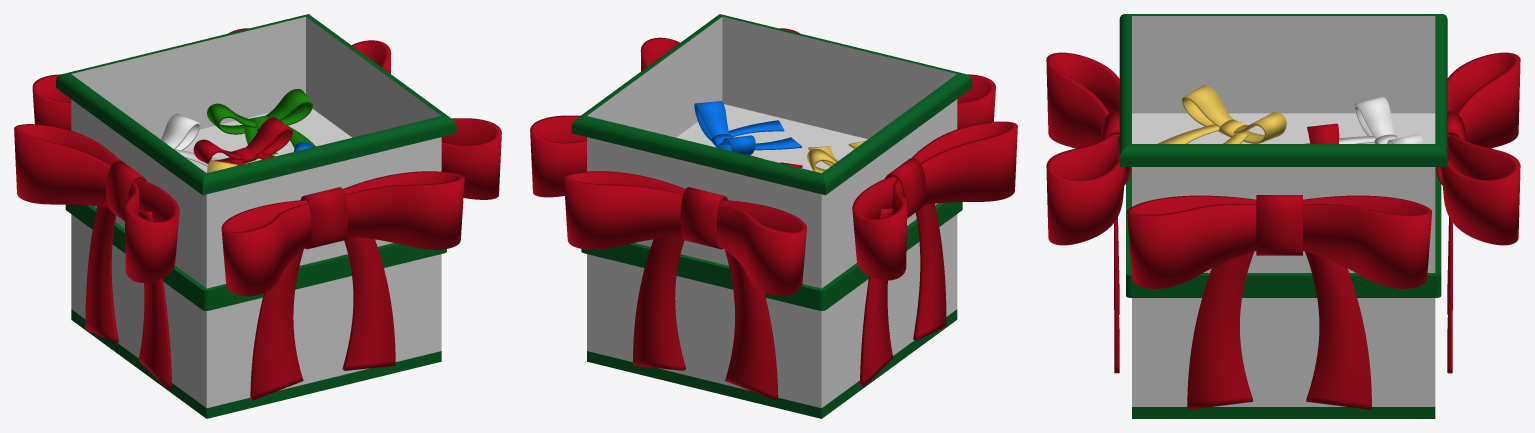
File: BowBox.fbx
3 renders of one model, left to right at view 1: azimuth 30°, elevation 25°; view 2: azimuth 150°, elevation 25°; view 3: azimuth 270°, elevation 25°, orthographic. The views are drawn at different scales.
Visible parts, largest first — view 1: Bow Box, Bow.003, Bow, Bow.001, Bow.002, Bow.006, Bow.004, Bow.005; view 2: Bow Box, Bow.004, Bow, Bow.001, Bow.007, Bow.003, Bow.008; view 3: Bow Box, Bow.001, Bow.003, Bow.004, Bow.008, Bow.005, Bow.006.
Boxes of the visible parts, x1,y1,x2,y2 form: Bow Box: [56, 14, 456, 418]; Bow.003: [221, 171, 464, 400]; Bow: [14, 124, 179, 389]; Bow.001: [351, 40, 501, 199]; Bow.002: [207, 89, 315, 158]; Bow.006: [193, 117, 292, 165]; Bow.004: [32, 28, 248, 130]; Bow.005: [161, 113, 219, 166]; Bow Box: [571, 14, 972, 418]; Bow.004: [564, 171, 806, 400]; Bow: [852, 121, 1017, 386]; Bow.001: [530, 37, 679, 197]; Bow.007: [694, 101, 801, 155]; Bow.003: [779, 28, 995, 128]; Bow.008: [807, 141, 865, 173]; Bow Box: [1119, 14, 1447, 418]; Bow.001: [1127, 195, 1431, 409]; Bow.003: [1046, 52, 1130, 373]; Bow.004: [1436, 52, 1520, 373]; Bow.008: [1158, 85, 1286, 143]; Bow.005: [1304, 96, 1423, 143]; Bow.006: [1307, 123, 1339, 143].
Size of the model in its own units: 313 by 200 by 313.
